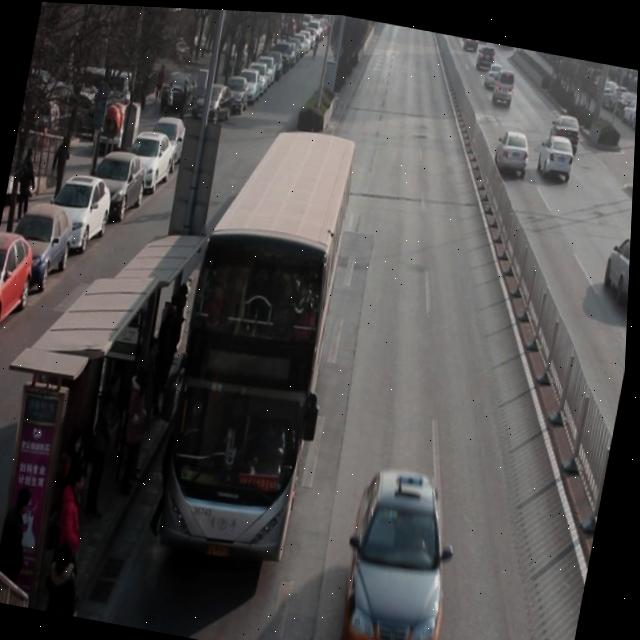car: (336, 463, 470, 640), (535, 129, 578, 181), (492, 125, 534, 177), (602, 227, 633, 297), (546, 107, 584, 149), (483, 57, 504, 89), (475, 41, 497, 69)
truck: (490, 63, 517, 105)
van: (152, 118, 358, 564)
